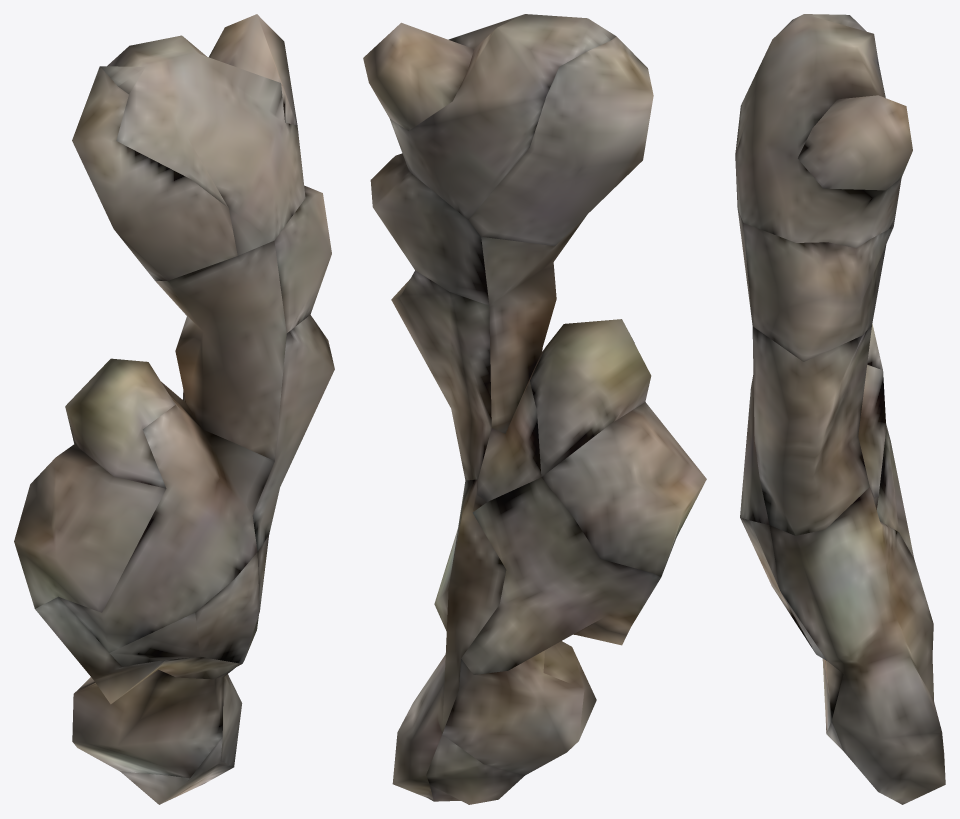
File: food_ginger_01.glb
3 renders of one model, left to right at view 1: azimuth 30°, elevation 25°; view 2: azimuth 150°, elevation 25°; view 3: azimuth 270°, elevation 25°, orthographic. The views are drawn at different scales.
Parts seen in each view (by area): view 1: food_ginger_01; view 2: food_ginger_01; view 3: food_ginger_01.
Part boxes in pixels (x1,y1,x2,y2): food_ginger_01: (14,14,334,804); food_ginger_01: (363,14,706,804); food_ginger_01: (735,14,945,804).
Bounding box in the file's own units: 0.2376 × 0.5671 × 0.1461.
Materials: 1 (1 with a texture image).
